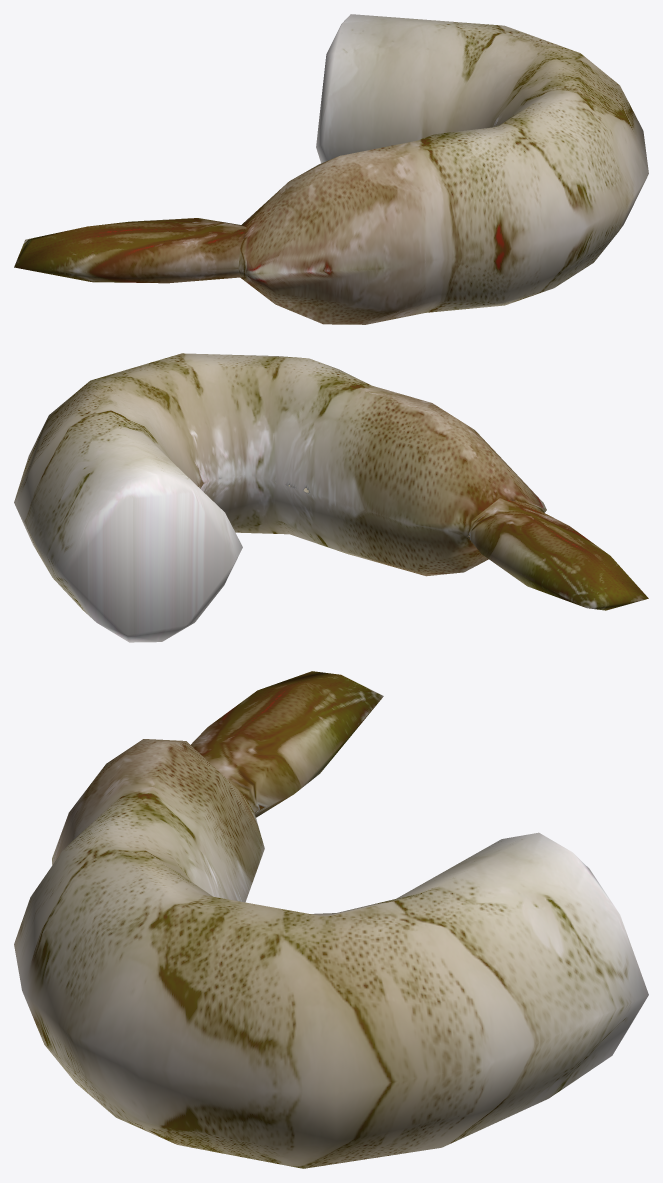
The model's file is Shrimp.fbx.
3 renders of one model, top to bottom at view 1: azimuth 30°, elevation 25°; view 2: azimuth 150°, elevation 25°; view 3: azimuth 270°, elevation 25°, orthographic. The views are drawn at different scales.
Visible parts, largest first — view 1: Shrimp.001; view 2: Shrimp.001; view 3: Shrimp.001.
Boxes of the visible parts, x1,y1,x2,y2 form: Shrimp.001: [14, 14, 648, 324]; Shrimp.001: [14, 353, 648, 642]; Shrimp.001: [14, 671, 648, 1168].
Size of the model in its own units: 1789 by 482 by 1140.
Materials: 1 (1 with a texture image).
